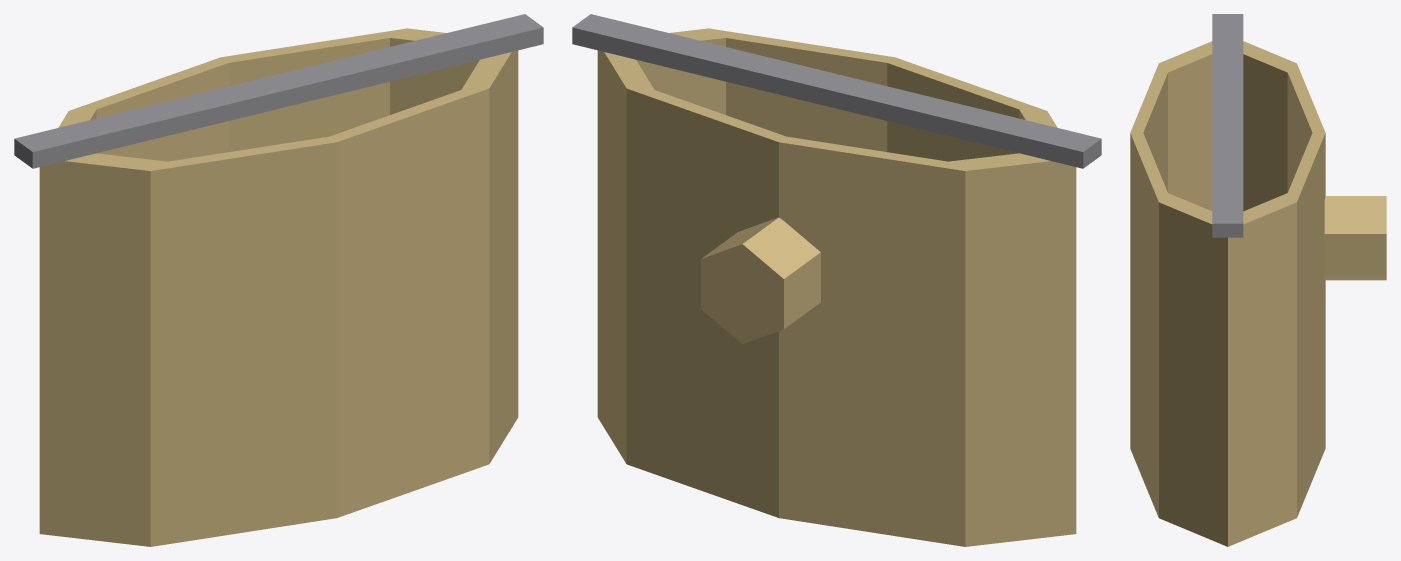
File: prop-throat-mount-blank.fbx
3 views of the same model, side by side, from view 1: azimuth 30°, elevation 25°; view 2: azimuth 150°, elevation 25°; view 3: azimuth 270°, elevation 25° (orthographic). The views are drawn at different scales.
Parts seen in each view (by area): view 1: prop-throat-mount-blank; view 2: prop-throat-mount-blank; view 3: prop-throat-mount-blank.
Part boxes in pixels (x1,y1,x2,y2): prop-throat-mount-blank: [14, 14, 543, 546]; prop-throat-mount-blank: [572, 14, 1101, 546]; prop-throat-mount-blank: [1130, 14, 1386, 546].
Size of the model in its own units: 6.4 by 4.7 by 3.31.
